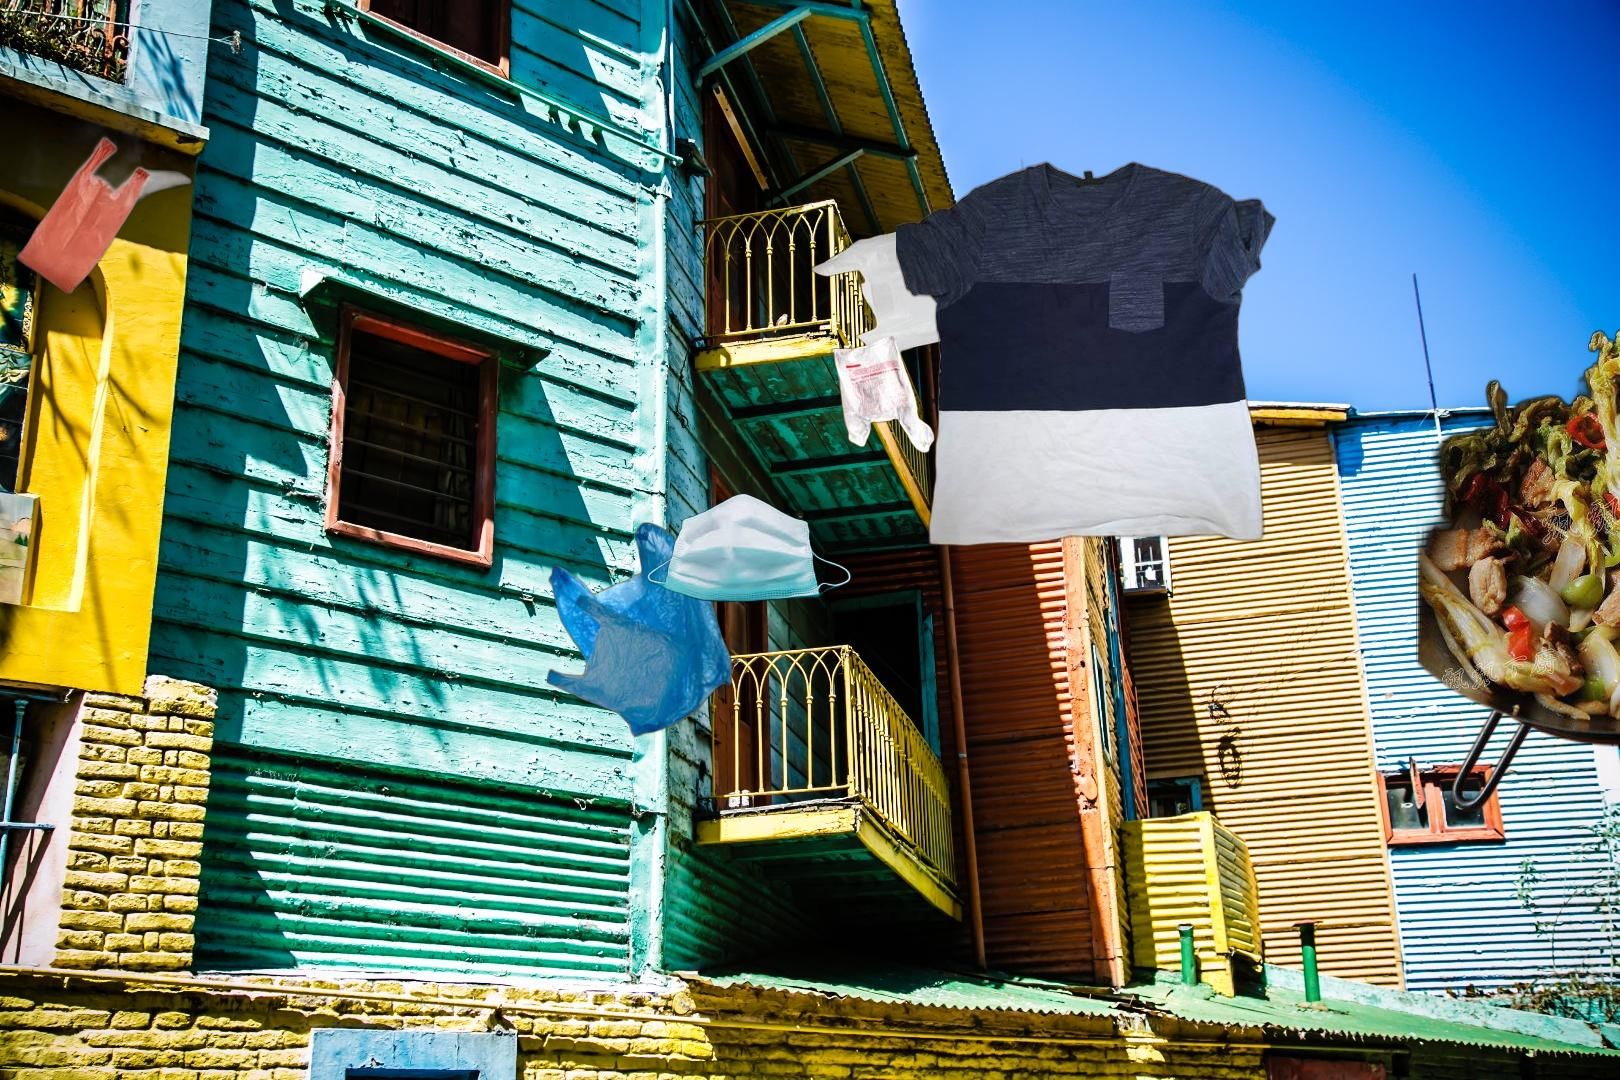biological: (1416, 319, 1620, 833)
clothes: (896, 155, 1279, 551)
plastic-bag: (10, 34, 209, 297), (808, 219, 990, 454), (544, 521, 735, 740)
trash: (646, 491, 855, 605)
